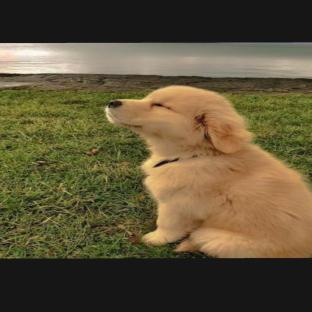Animal: (106, 86, 312, 258)
